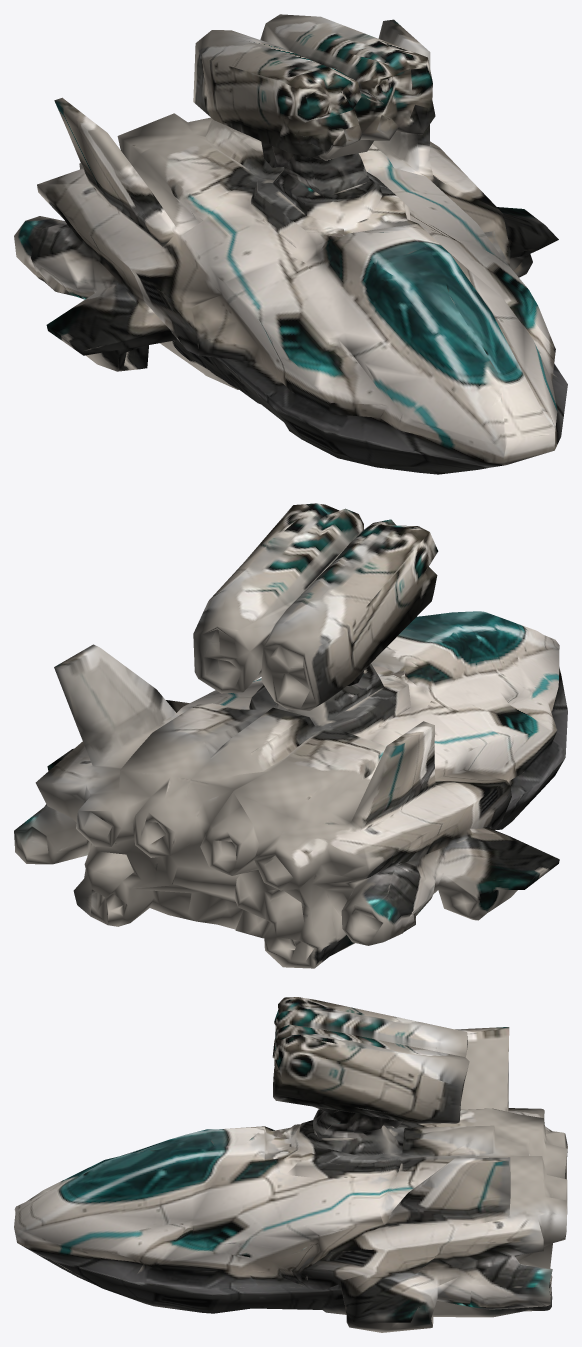
Rendered from simoom_lod2.glb.
3 views of the same model, one above another, from view 1: azimuth 30°, elevation 25°; view 2: azimuth 150°, elevation 25°; view 3: azimuth 270°, elevation 25° (orthographic). The views are drawn at different scales.
Parts seen in each view (by area): view 1: geometry_0; view 2: geometry_0; view 3: geometry_0.
Boxes of the visible parts, x1=… form: geometry_0: x1=14, y1=14, x2=567, y2=474; geometry_0: x1=14, y1=503, x2=567, y2=968; geometry_0: x1=14, y1=997, x2=567, y2=1332.
Size of the model in its own units: 1.6 by 1.05 by 2.
1 material, 1 textured.
